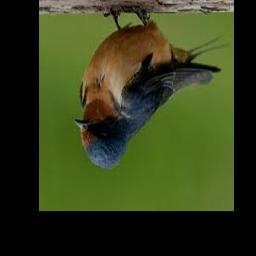Swallow: (75, 11, 229, 169)
